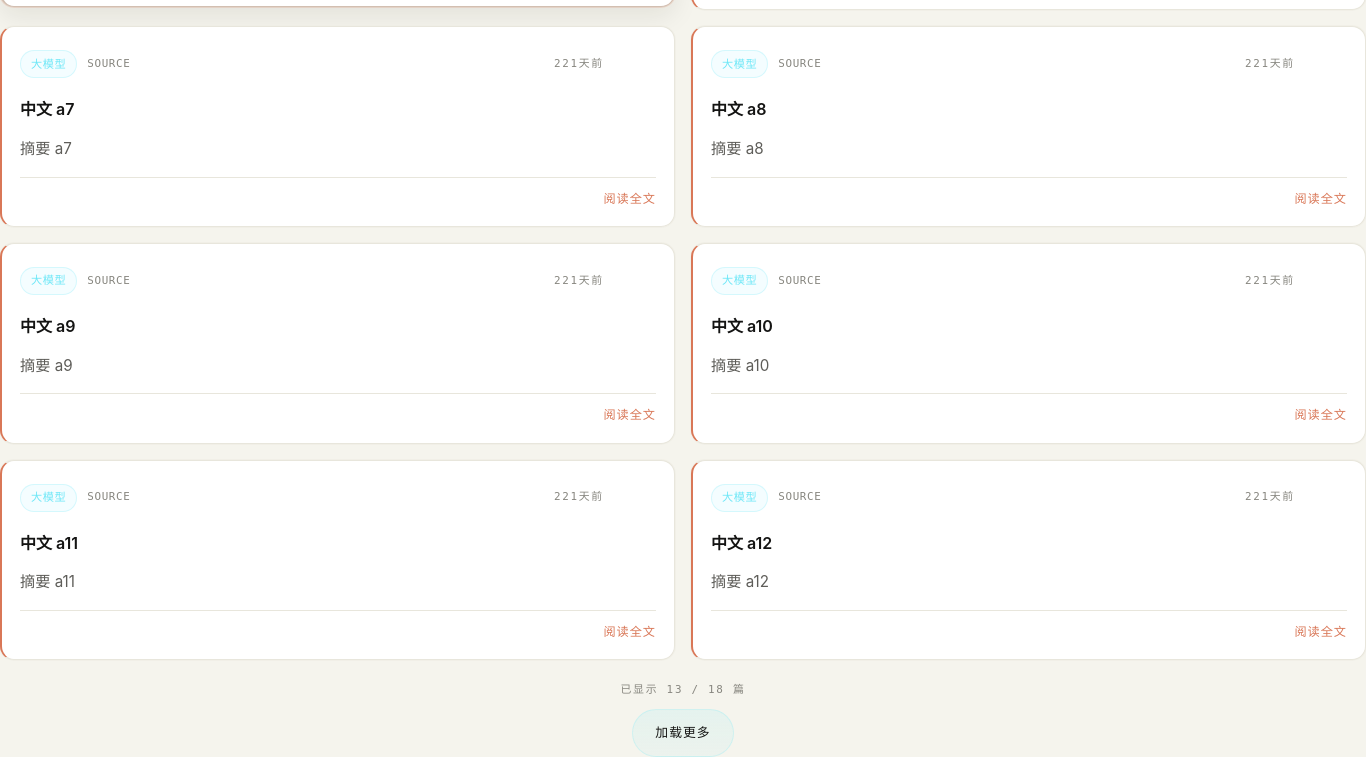
Test: ArticleFeed › loads more articles from the feed json
(page scrolled)
Click the button "加载更多" at (683, 732), box left=632, top=708, right=734, bottom=756
(page scrolled)
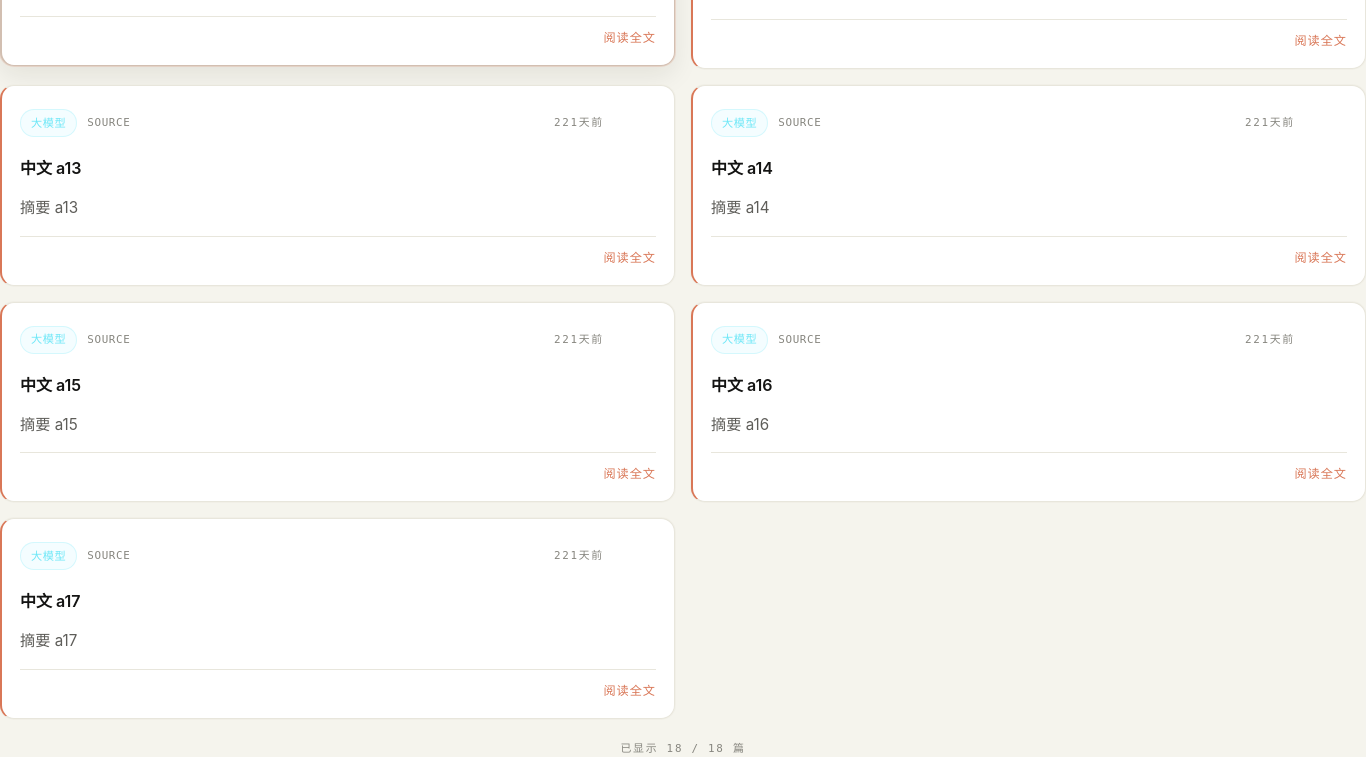
Expected: the text "已显示 18 / 18 篇" is shown, left=620, top=741, right=746, bottom=756
